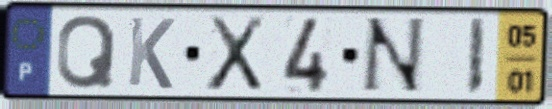4: (279, 14, 333, 96)
I: (463, 15, 489, 98)
K: (125, 14, 178, 92)
N: (356, 15, 428, 97)
Q: (53, 13, 119, 92)
X: (203, 13, 268, 94)
